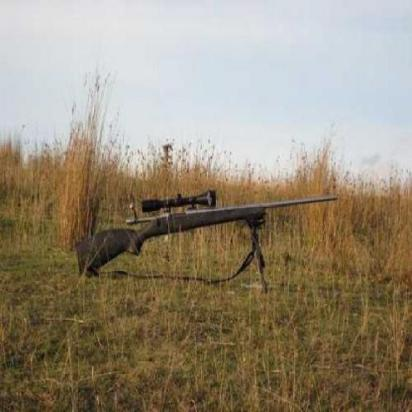Gun: (74, 192, 341, 298)
